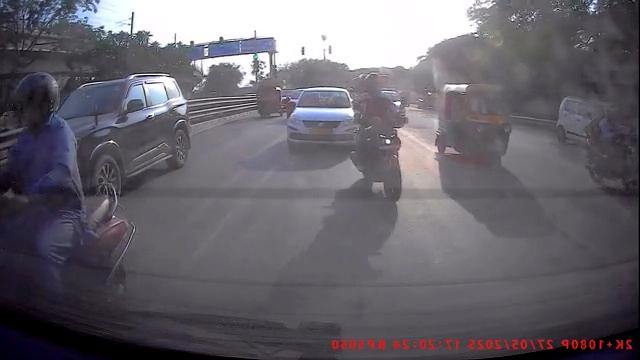motorcycle_with_helmet: (1, 69, 136, 312), (348, 69, 408, 201)
